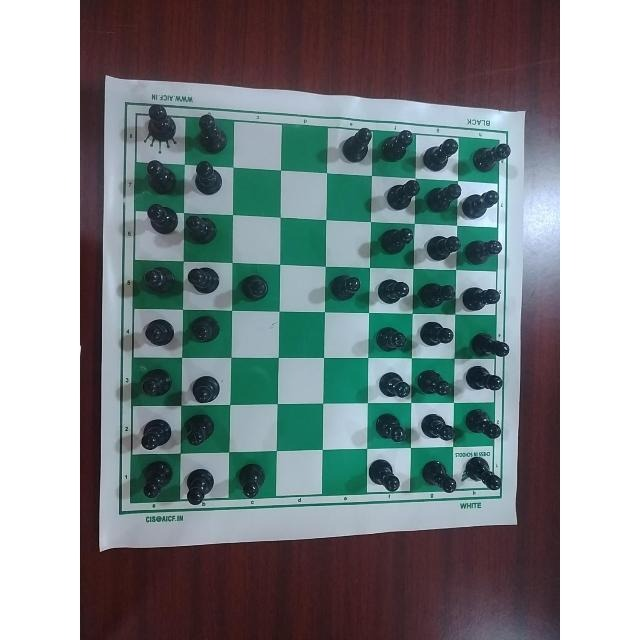black-pawn: (191, 112, 229, 154), (181, 465, 217, 509), (372, 222, 416, 257), (135, 459, 172, 500), (141, 103, 177, 145), (461, 456, 503, 492), (466, 326, 511, 359), (186, 367, 224, 406), (419, 457, 457, 496), (415, 413, 458, 447), (140, 160, 180, 196), (416, 275, 456, 310), (416, 317, 456, 352), (471, 137, 508, 174), (421, 137, 459, 173), (143, 201, 181, 237), (136, 418, 174, 454), (423, 226, 462, 261), (462, 364, 506, 395), (465, 187, 504, 221), (139, 262, 178, 296), (367, 457, 401, 496), (426, 181, 462, 217), (186, 313, 220, 351), (415, 368, 453, 402), (461, 279, 501, 311), (184, 213, 219, 249), (372, 409, 408, 444), (234, 463, 266, 502), (384, 179, 420, 213), (466, 233, 502, 267), (187, 264, 223, 298), (329, 269, 363, 305), (140, 315, 174, 351), (373, 320, 409, 354), (136, 366, 173, 399), (340, 127, 372, 165), (380, 127, 412, 165), (182, 415, 217, 449), (374, 274, 412, 305), (376, 368, 410, 402), (466, 408, 502, 440), (191, 158, 221, 195), (236, 273, 272, 303)
